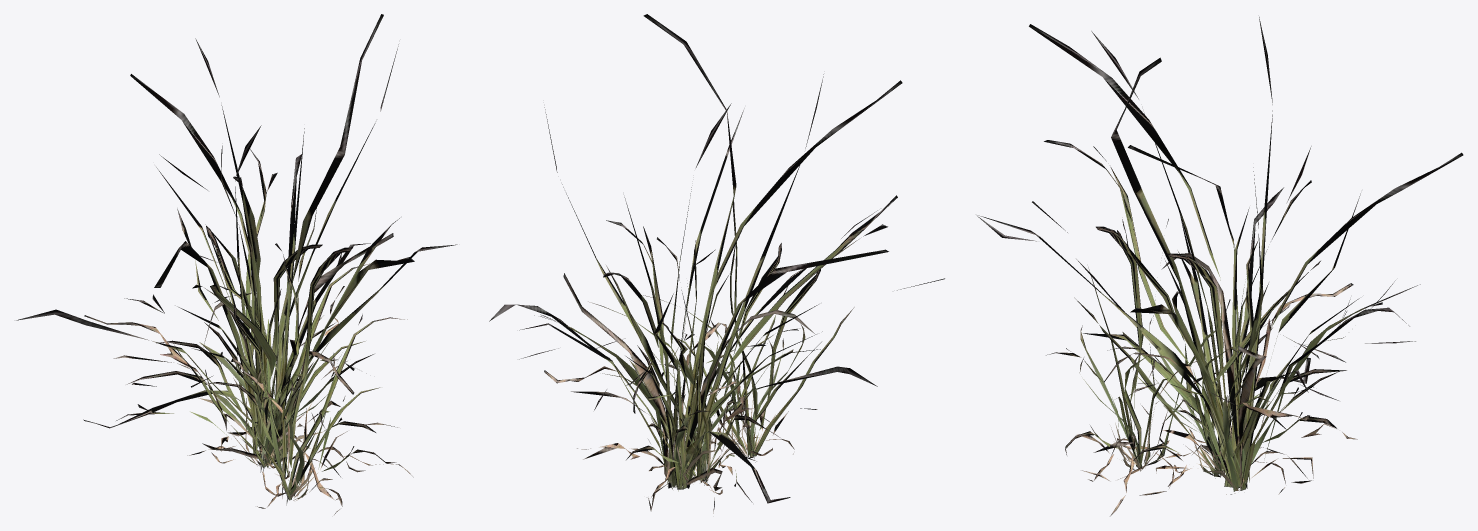
Rendered from grass.glb.
The picture shows the model from 3 angles, left to right: view 1: azimuth 30°, elevation 25°; view 2: azimuth 150°, elevation 25°; view 3: azimuth 270°, elevation 25°; orthographic projection. The views are drawn at different scales.
Visible parts, largest first — view 1: grass_e, grass_d, grass_c; view 2: grass_e, grass_d, grass_c; view 3: grass_e, grass_d, grass_c.
Boxes of the visible parts, x1,y1,x2,y2 form: grass_e: [16, 14, 457, 478]; grass_d: [113, 145, 375, 505]; grass_c: [191, 243, 413, 514]; grass_e: [489, 14, 902, 511]; grass_d: [519, 237, 821, 513]; grass_c: [596, 200, 944, 462]; grass_e: [977, 17, 1463, 491]; grass_d: [1074, 180, 1415, 494]; grass_c: [1032, 201, 1345, 516].
Size of the model in its own units: 0.3417 by 0.4028 by 0.3825.
Materials: 1 (1 with a texture image).
